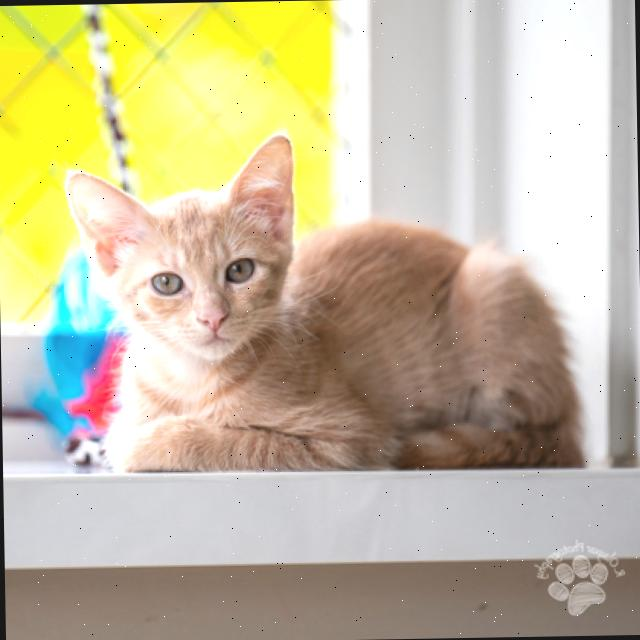domestic_short_hair_cat: (59, 124, 323, 382)
